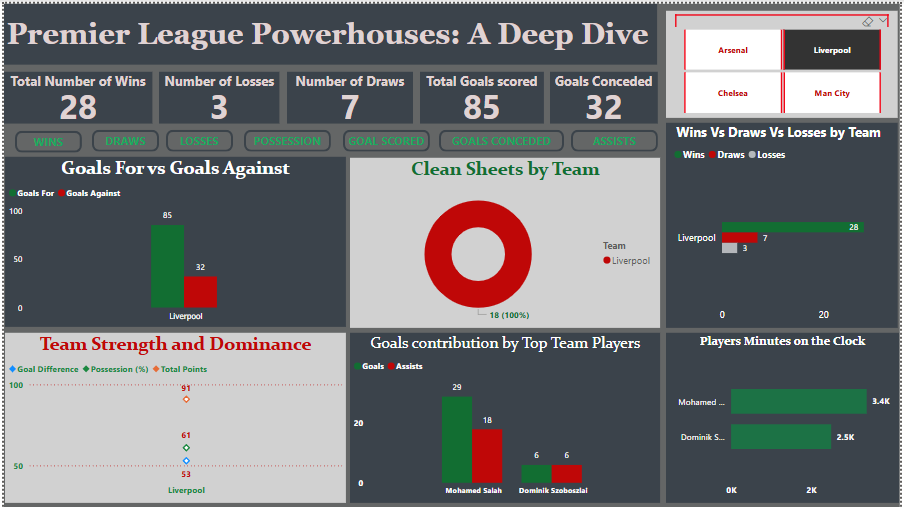

The dashboard page shown, as its layout file describes it:
{"tool":"powerbi","page":{"name":"Page 1","canvas":[1280,720],"ordinal":0},"visuals":[{"type":"shape","box":[0,0,1279.7,720.3],"z":0},{"type":"actionButton","box":[0,0,933.3,87],"z":1000},{"type":"kpi","title":"Total Number of Wins","fields":{"Indicator":["Team standing.Wins"],"TrendLine":["Matches among top 4.Date"]},"box":[0,97.1,211.6,73.9],"z":2000},{"type":"kpi","title":"Number of Losses","fields":{"Indicator":["Team standing.Losses"],"TrendLine":["Matches among top 4.Date"]},"box":[221.7,97.1,172.5,73.9],"z":3000},{"type":"kpi","title":"Number of Draws ","fields":{"Indicator":["Team standing.Draws"],"TrendLine":["Matches among top 4.Date"]},"box":[404.3,97.1,179.7,73.9],"z":4000},{"type":"kpi","title":"Total Goals scored ","fields":{"Indicator":["Team standing.Goals For"],"TrendLine":["Matches among top 4.Date"]},"box":[594.2,97.1,176.8,73.9],"z":5000},{"type":"kpi","title":"Goals Conceded","fields":{"Indicator":["Team standing.Goals Against"],"TrendLine":["Matches among top 4.Date"]},"box":[779.7,97.1,153.6,73.9],"z":6000},{"type":"clusteredColumnChart","title":" Goals  For vs Goals Against","fields":{"Category":["team general stats.Team"],"Y":["Team standing.Goals For","Team standing.Goals Against"]},"box":[1.4,218.9,486.7,243.4],"z":7000},{"type":"lineChart","title":"Team Strength and Dominance","fields":{"Category":["team general stats.Team"],"Y":["Team standing.Goal Difference","Team standing.Possession (%)","Team standing.Points"]},"box":[1.4,470,487.1,242.9],"z":8000},{"type":"clusteredBarChart","title":"Wins Vs Draws Vs Losses by Team","fields":{"Category":["team general stats.Team"],"Y":["Team standing.Wins","Team standing.Draws","Team standing.Losses"]},"box":[946,169.9,331,293],"z":9000},{"type":"donutChart","title":" Clean Sheets by Team","fields":{"Category":["team general stats.Team"],"Y":["Team standing.Clean Sheets"]},"box":[498.5,219.4,438.8,243.3],"z":10000},{"type":"clusteredColumnChart","title":" Goals contribution by Top Team Players","fields":{"Category":["top performers.Player"],"Y":["top performers.Goals","top performers.Assists"]},"box":[494,470.1,438.8,243.3],"z":11000},{"type":"clusteredBarChart","title":"Players Minutes on the Clock","fields":{"Category":["top performers.Player"],"Y":["top performers.Minutes Played"]},"box":[945.7,470,332.9,242.9],"z":12000},{"type":"slicer","fields":{"Values":["team general stats.Team"]},"box":[945.7,10,331.4,152.9],"z":13000},{"type":"actionButton","box":[16.4,182.1,95.5,31.3],"z":14000},{"type":"actionButton","box":[125.7,180,95.7,31.4],"z":15000},{"type":"actionButton","box":[231.4,180,95.7,31.4],"z":16000},{"type":"actionButton","box":[342.9,180,124.3,31.4],"z":17000},{"type":"actionButton","box":[484.3,180,124.3,31.4],"z":18000},{"type":"actionButton","box":[810,180,124.3,31.4],"z":19000},{"type":"actionButton","box":[621.4,180,178.6,31.4],"z":20000}]}

Visuals, with their boxes in screenshot pixels (x1, y1, x2, y2), scaled from the page's 1280x720 canvas onto the 904x507 screenshot:
shape: [0,0,903,506]
actionButton: [0,0,659,61]
"Total Number of Wins" kpi: [0,68,149,120]
"Number of Losses" kpi: [157,68,278,120]
"Number of Draws " kpi: [286,68,412,120]
"Total Goals scored " kpi: [420,68,545,120]
"Goals Conceded" kpi: [551,68,659,120]
" Goals  For vs Goals Against" clusteredColumnChart: [1,154,345,326]
"Team Strength and Dominance" lineChart: [1,331,345,502]
"Wins Vs Draws Vs Losses by Team" clusteredBarChart: [668,120,902,326]
" Clean Sheets by Team" donutChart: [352,154,662,326]
" Goals contribution by Top Team Players" clusteredColumnChart: [349,331,659,502]
"Players Minutes on the Clock" clusteredBarChart: [668,331,903,502]
slicer - team general stats.Team: [668,7,902,115]
actionButton: [12,128,79,150]
actionButton: [89,127,156,149]
actionButton: [163,127,231,149]
actionButton: [242,127,330,149]
actionButton: [342,127,430,149]
actionButton: [572,127,660,149]
actionButton: [439,127,565,149]
